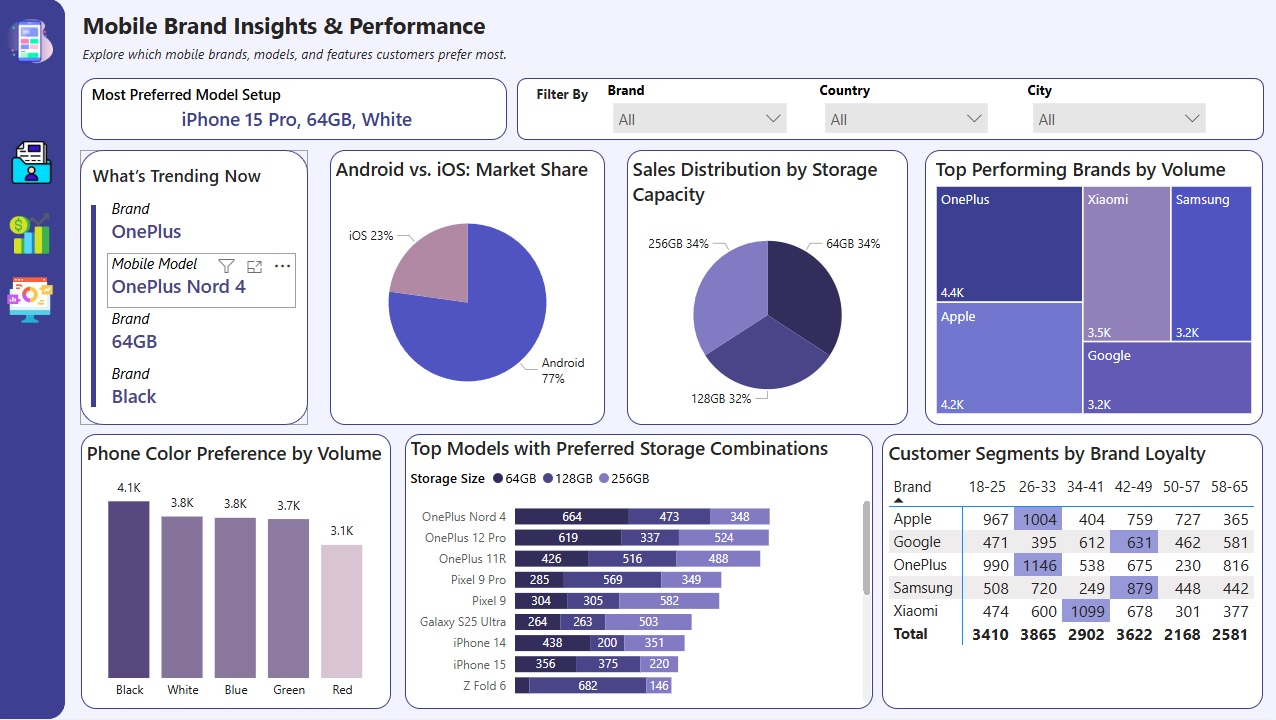

The page's visual inventory and layout, read from the dashboard file:
{"tool":"powerbi","page":{"name":"Brand","canvas":[1280,720],"ordinal":0},"visuals":[{"type":"shape","box":[0,0,67.9,719.8],"z":0},{"type":"shape","box":[83.4,151,228,275],"z":0,"group":"g4"},{"type":"textbox","title":"Mobile Brand Insights & Performance","box":[81.5,11.1,623.5,60.5],"z":1000},{"type":"group","id":"g1","title":"Group 1","box":[110.5,199.1,189.4,220],"z":1000,"group":"g4"},{"type":"card","title":"Most Preferred Model Setup","fields":{"Values":["Min(Sales.Model Specs)"]},"box":[84.4,78.9,425.6,62.2],"z":2000},{"type":"multiRowCard","title":"Brand","fields":{"Values":["Min(Sales.Brand)"]},"box":[110.5,199.1,189.4,55],"z":2000,"group":"g1"},{"type":"shape","box":[90.6,206,12.5,202.1],"z":2000,"group":"g4"},{"type":"pieChart","title":"Android vs. iOS: Market Share","fields":{"Category":["Sales.Operating_System"],"Y":["Sum(Sales.Units_Sold)"]},"box":[332.5,151.2,275,275],"z":3000},{"type":"group","id":"g2","title":"Group 4","box":[83.4,151,228,275],"z":4000},{"type":"group","id":"g3","title":"Group 2","box":[83.4,151,228,275],"z":4000,"group":"g2"},{"type":"multiRowCard","title":"Mobile Model","fields":{"Values":["Min(Sales.Mobile_Model)"]},"box":[110.6,254,189.4,55],"z":4000,"group":"g1"},{"type":"pieChart","title":"Sales Distribution by Storage Capacity","fields":{"Category":["Sales.Storage_Size"],"Y":["Sum(Sales.Units_Sold)"]},"box":[630,151.2,281.2,275],"z":5000},{"type":"multiRowCard","title":"Brand","fields":{"Values":["Min(Sales.Storage_Size)"]},"box":[110.6,309,189.4,55],"z":5000,"group":"g1"},{"type":"treemap","title":"Top Performing Brands by Volume","fields":{"Group":["Sales.Brand"],"Values":["Sales.total_Units"]},"box":[927.5,151.2,338.8,275],"z":6000},{"type":"textbox","title":"What’s Trending Now","box":[91.2,163.7,209.3,26.1],"z":6000,"group":"g2"},{"type":"multiRowCard","title":"Brand","fields":{"Values":["Min(Sales.Color)"]},"box":[110.6,364,189.4,55],"z":6000,"group":"g1"},{"type":"group","id":"g4","title":"Group 3","box":[83.4,151,228,275],"z":6003,"group":"g3"},{"type":"shape","box":[520,78.9,746.7,62.2],"z":7000},{"type":"clusteredColumnChart","title":"Phone Color Preference by Volume","fields":{"Category":["Sales.Color"],"Y":["Sales.total_Units"]},"box":[83.8,435,310,275],"z":8000},{"type":"barChart","title":"Top Models with Preferred Storage Combinations","fields":{"Category":["Sales.Mobile_Model"],"Series":["Sales.Storage_Size"],"Y":["Sales.total_Units"]},"box":[407.5,435,468.8,275],"z":9000},{"type":"pivotTable","title":"Customer Segments by Brand Loyalty","fields":{"Rows":["Sales.Brand"],"Values":["Sales.total_Units"],"Columns":["Sales.Customer_Age_Group"]},"box":[885,435,381.2,275],"z":10000},{"type":"slicer","title":"Brand","fields":{"Values":["Sales.Brand"]},"box":[608.9,82.2,191.1,55.6],"z":11000},{"type":"slicer","title":"Country","fields":{"Values":["Location.Country"]},"box":[821.1,82.2,180,55.6],"z":12000},{"type":"slicer","title":"City","fields":{"Values":["Sales.City"]},"box":[1028.9,82.2,190,55.6],"z":13000},{"type":"textbox","box":[535,84,72.5,28.8],"z":14000},{"type":"image","box":[2.2,205.6,61.1,57],"z":15000},{"type":"image","box":[2.2,14.4,61.1,56.7],"z":16000},{"type":"image","box":[4.4,136.7,61.1,53.3],"z":17000},{"type":"image","box":[2.5,271,61.2,60],"z":17001}]}

Visuals, with their boxes on the page's 1280x720 design canvas (x1, y1, x2, y2). These are canvas units, not pixel positions in the 1276x720 screenshot, which may show the page scaled, cropped or inside an application window:
shape: [left=0, top=0, right=68, bottom=720]
shape: [left=83, top=151, right=311, bottom=426]
"Mobile Brand Insights & Performance" textbox: [left=82, top=11, right=705, bottom=72]
"Group 1" group: [left=110, top=199, right=300, bottom=419]
"Most Preferred Model Setup" card: [left=84, top=79, right=510, bottom=141]
"Brand" multiRowCard: [left=110, top=199, right=300, bottom=254]
shape: [left=91, top=206, right=103, bottom=408]
"Android vs. iOS: Market Share" pieChart: [left=332, top=151, right=608, bottom=426]
"Group 4" group: [left=83, top=151, right=311, bottom=426]
"Group 2" group: [left=83, top=151, right=311, bottom=426]
"Mobile Model" multiRowCard: [left=111, top=254, right=300, bottom=309]
"Sales Distribution by Storage Capacity" pieChart: [left=630, top=151, right=911, bottom=426]
"Brand" multiRowCard: [left=111, top=309, right=300, bottom=364]
"Top Performing Brands by Volume" treemap: [left=928, top=151, right=1266, bottom=426]
"What’s Trending Now" textbox: [left=91, top=164, right=300, bottom=190]
"Brand" multiRowCard: [left=111, top=364, right=300, bottom=419]
"Group 3" group: [left=83, top=151, right=311, bottom=426]
shape: [left=520, top=79, right=1267, bottom=141]
"Phone Color Preference by Volume" clusteredColumnChart: [left=84, top=435, right=394, bottom=710]
"Top Models with Preferred Storage Combinations" barChart: [left=408, top=435, right=876, bottom=710]
"Customer Segments by Brand Loyalty" pivotTable: [left=885, top=435, right=1266, bottom=710]
"Brand" slicer: [left=609, top=82, right=800, bottom=138]
"Country" slicer: [left=821, top=82, right=1001, bottom=138]
"City" slicer: [left=1029, top=82, right=1219, bottom=138]
textbox: [left=535, top=84, right=608, bottom=113]
image: [left=2, top=206, right=63, bottom=263]
image: [left=2, top=14, right=63, bottom=71]
image: [left=4, top=137, right=66, bottom=190]
image: [left=2, top=271, right=64, bottom=331]
